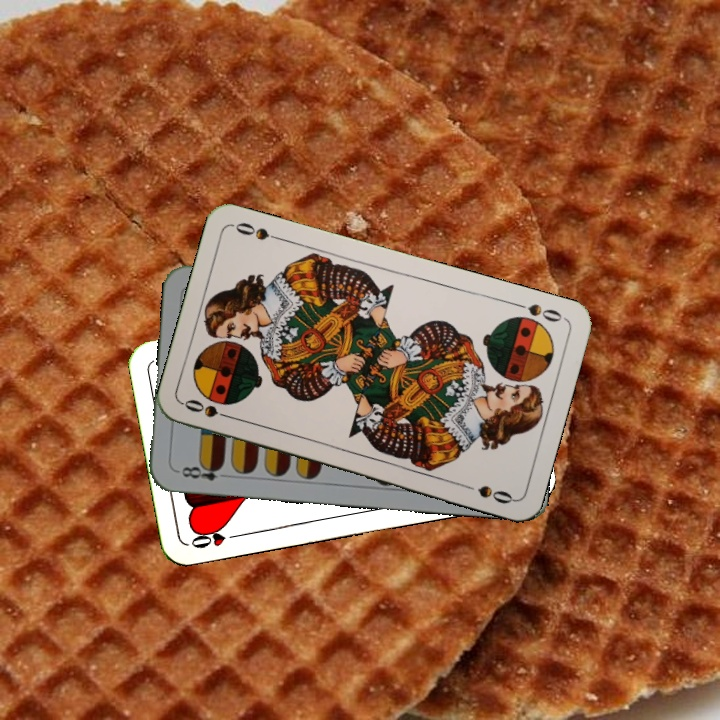E8: (173, 459, 232, 483)
HO: (186, 523, 244, 551)
SO: (180, 395, 238, 423), (509, 298, 567, 325)
